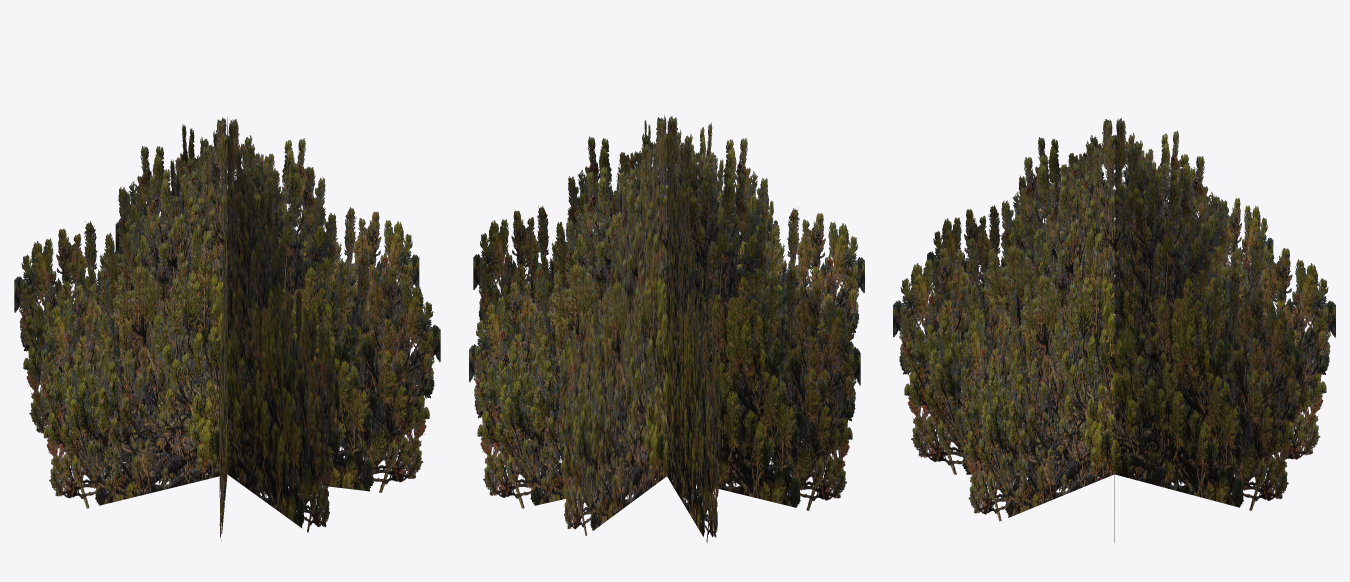
File: DesertBush.fbx
3 renders of one model, left to right at view 1: azimuth 30°, elevation 25°; view 2: azimuth 150°, elevation 25°; view 3: azimuth 270°, elevation 25°, orthographic.
Parts seen in each view (by area): view 1: Plane.003; view 2: Plane.003; view 3: Plane.003.
Boxes of the visible parts, x1,y1,x2,y2 form: Plane.003: (14, 117, 440, 540); Plane.003: (469, 115, 864, 542); Plane.003: (893, 118, 1335, 542).
Bounding box in the file's own units: 175 × 160 × 175.
Materials: 1 (1 with a texture image).
